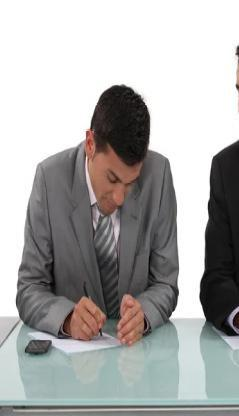good: (5, 73, 199, 369)
